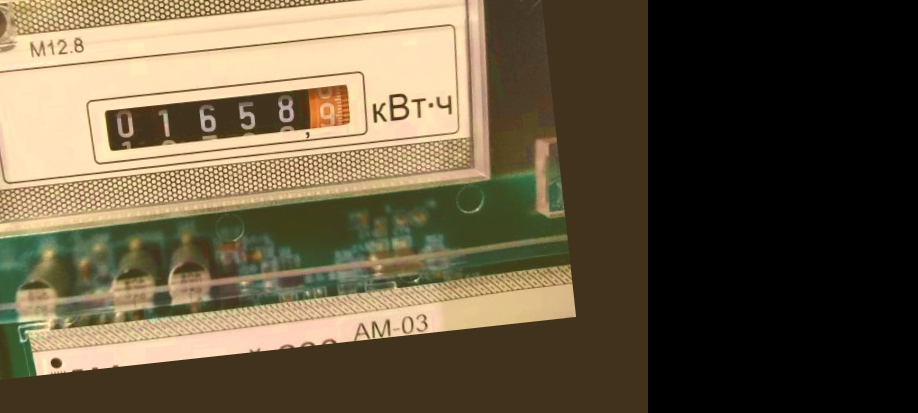0: (112, 106, 136, 140)
1: (156, 106, 172, 138)
5: (236, 98, 258, 132)
6: (196, 101, 219, 134)
8: (274, 91, 297, 125)
9: (315, 99, 336, 127)
screen: (77, 60, 375, 170)
